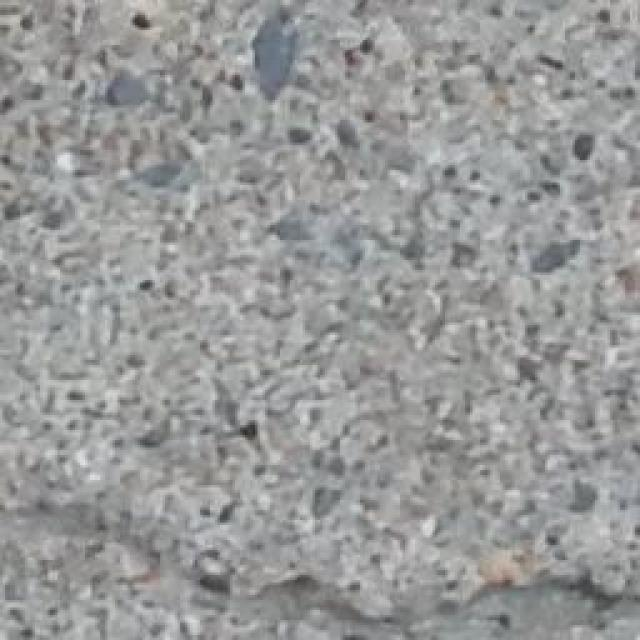concrete-crack: (0, 479, 640, 638), (250, 0, 302, 102)
